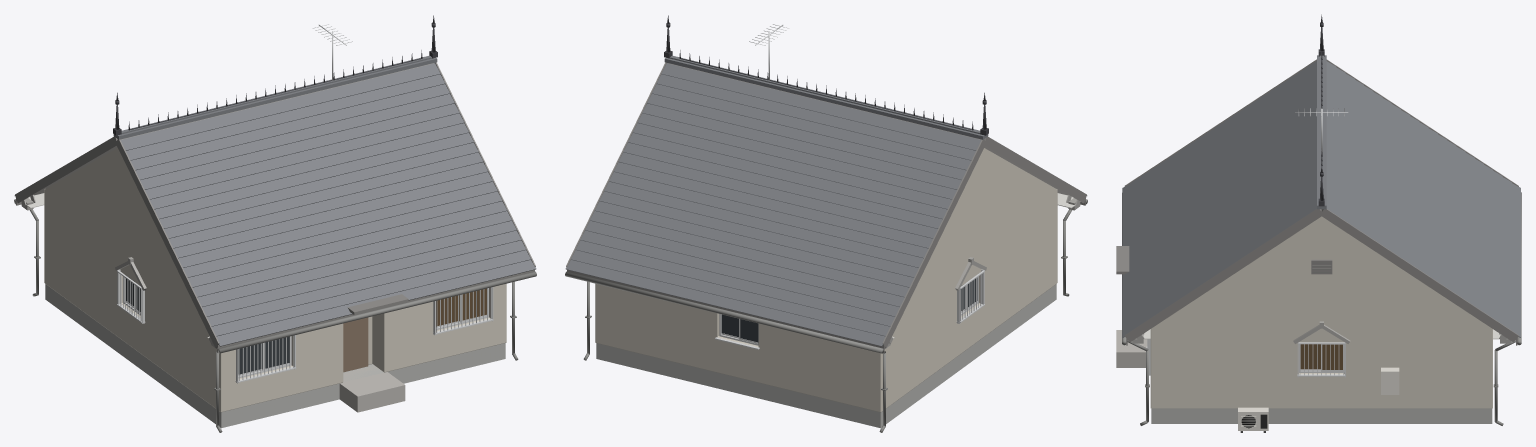
File: blk_outer1_0_0.glb
3 renders of one model, left to right at view 1: azimuth 30°, elevation 25°; view 2: azimuth 150°, elevation 25°; view 3: azimuth 270°, elevation 25°, orthographic. The views are drawn at different scales.
Visible parts, largest first — view 1: blk_outer1_0_0; view 2: blk_outer1_0_0; view 3: blk_outer1_0_0.
Part boxes in pixels (x1,y1,x2,y2): blk_outer1_0_0: [14, 15, 536, 432]; blk_outer1_0_0: [565, 15, 1087, 432]; blk_outer1_0_0: [1116, 14, 1521, 432].
Bounding box in the file's own units: 9.54 × 7.97 × 10.65.
